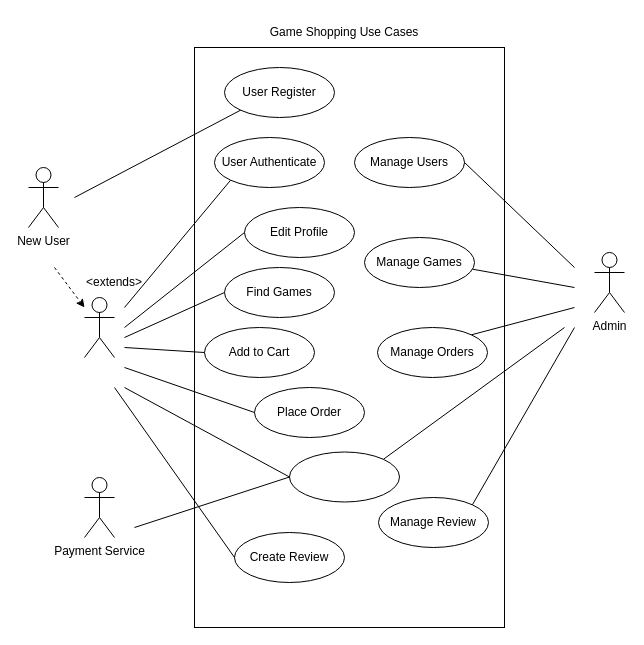
The diagram is 644 pixels wide and 645 high, and some of its shapes have lost their labels. The centre of each missing label's shape, as x and y in pixels:
Order Confirm: pixel 344 476
User: pixel 99 327
